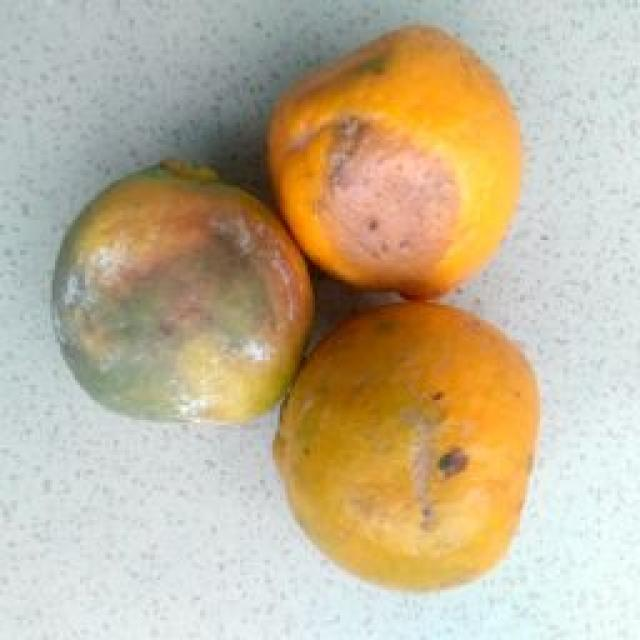Bad_Orange: (274, 301, 539, 588), (268, 26, 521, 298), (52, 161, 314, 422)
